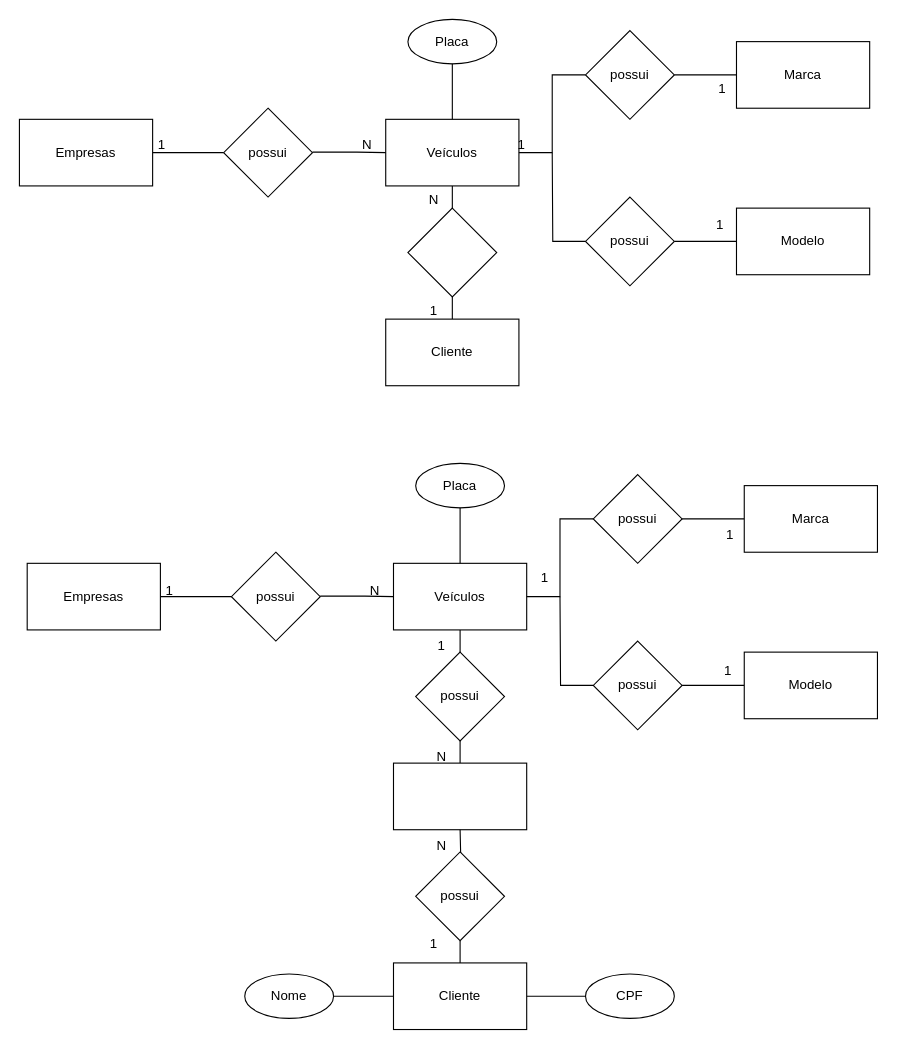
Some shapes in this 897 by 1049 pixel diagram are drawn without their labels. Here are the shapes that lost their labels. From the top down, the centre of each, then its label:
At pixel 452 252: "aluga".
At pixel 459 796: "Aluguel".
